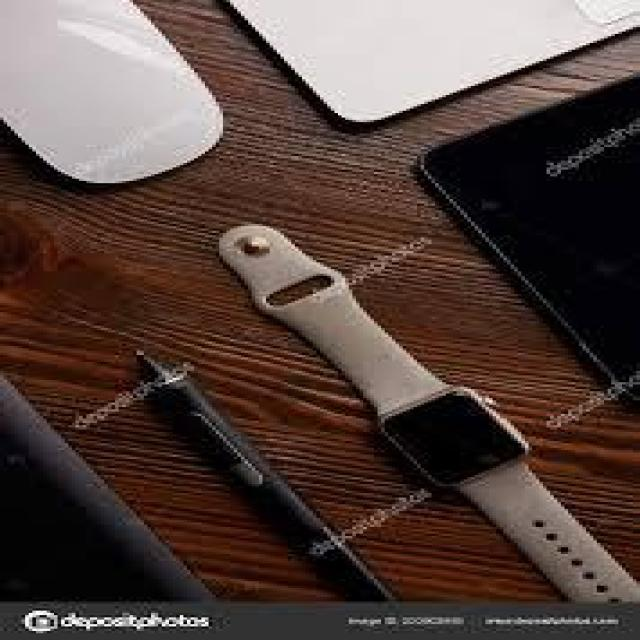watch: (168, 208, 545, 557)
